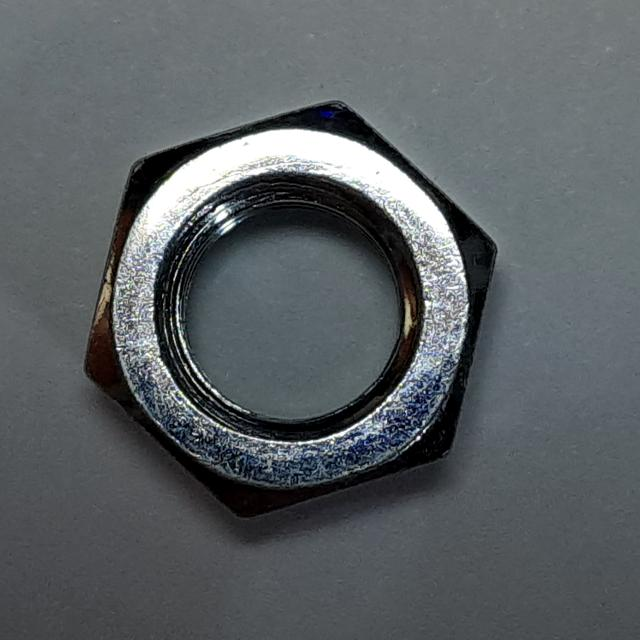Excellent: (70, 81, 514, 533)
